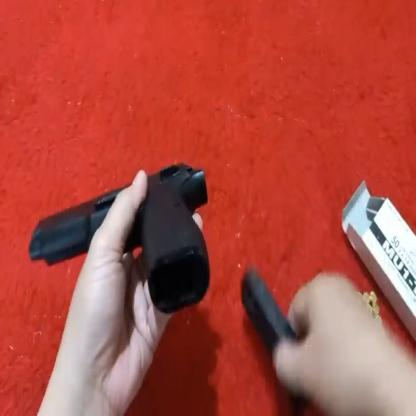handgun: (26, 146, 218, 320)
